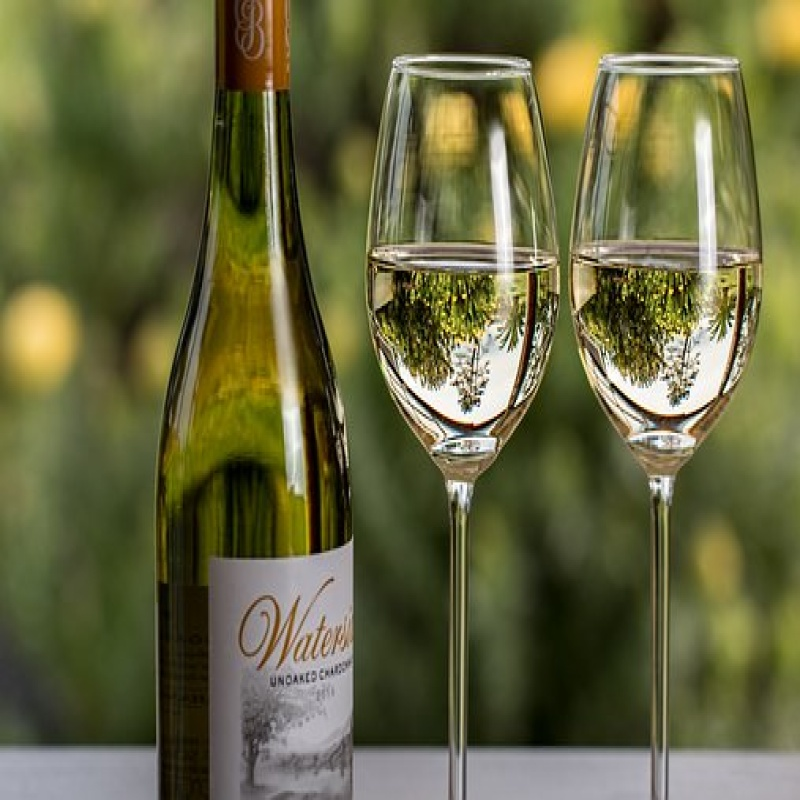wine: (156, 4, 349, 800)
